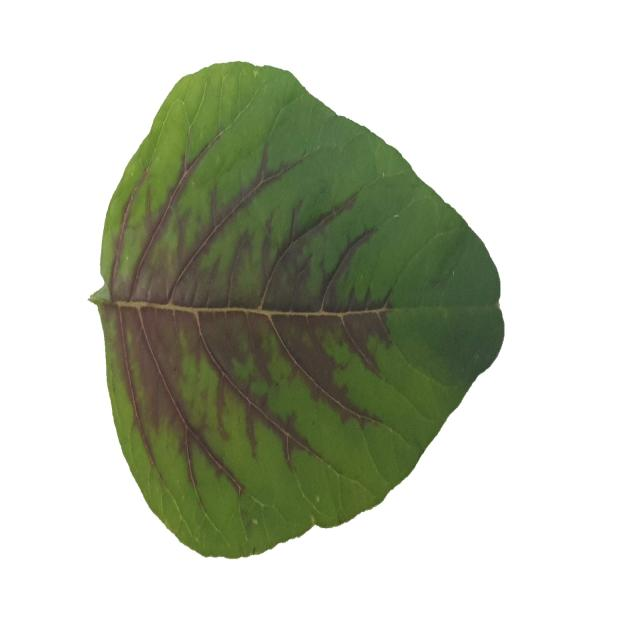Medicinal-Arive Dantu: (90, 57, 504, 564)
